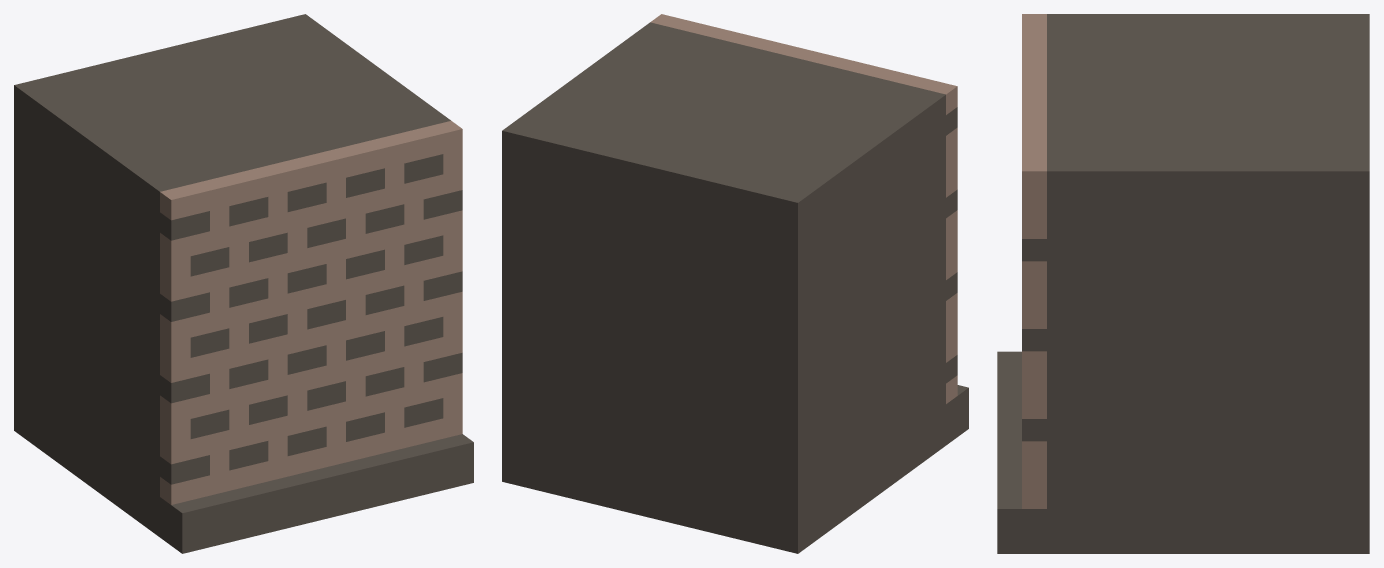
The model's file is dungeon_a_b_outer_wall_segment_a_flipped.obj.
The picture shows the model from 3 angles, left to right: view 1: azimuth 30°, elevation 25°; view 2: azimuth 150°, elevation 25°; view 3: azimuth 270°, elevation 25°; orthographic projection. The views are drawn at different scales.
Bounding box in the file's own units: 1.5 × 1.7 × 1.5.
Materials: 1 (1 with a texture image).
